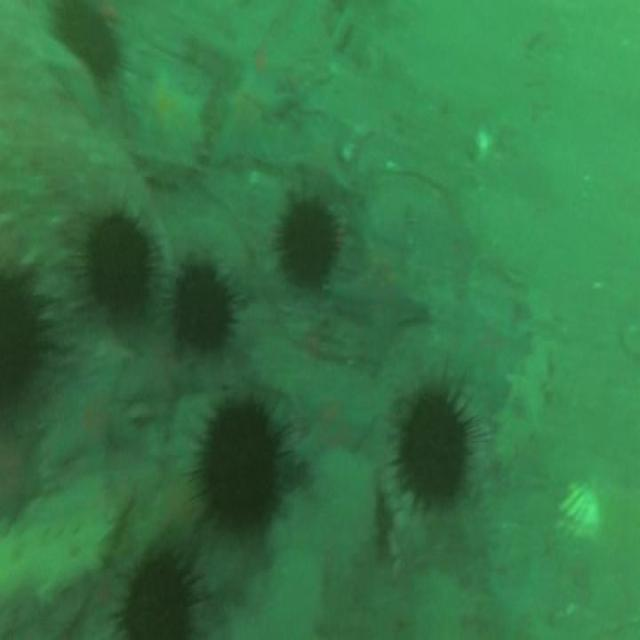echinus: (203, 405, 280, 534), (401, 393, 467, 508), (88, 213, 151, 320), (124, 548, 194, 640), (1, 278, 43, 409), (174, 262, 232, 354), (280, 201, 336, 286), (66, 8, 116, 82)
holothurian: (491, 341, 553, 468)
scallop: (562, 472, 602, 544)
starfish: (336, 242, 426, 373), (54, 373, 140, 479), (220, 55, 294, 174), (455, 286, 525, 395), (129, 66, 202, 162), (131, 335, 199, 436), (296, 389, 374, 458), (2, 430, 44, 526), (300, 115, 350, 193)
